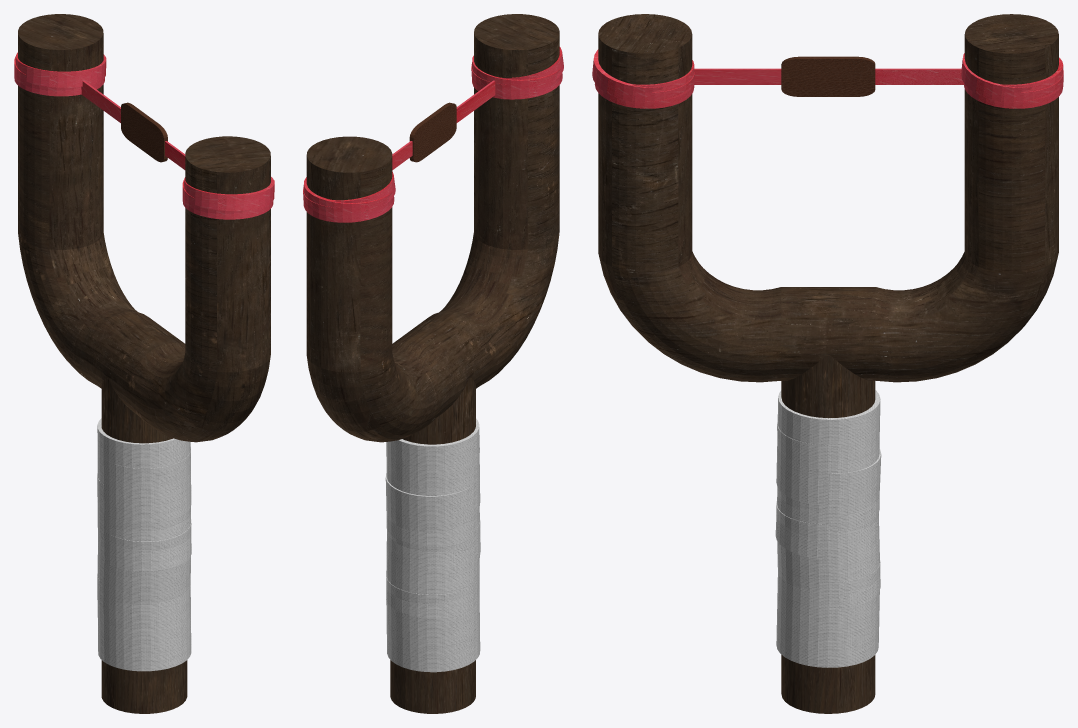
Rendered from slingshot.fbx.
3 views of the same model, side by side, from view 1: azimuth 30°, elevation 25°; view 2: azimuth 150°, elevation 25°; view 3: azimuth 270°, elevation 25° (orthographic). The views are drawn at different scales.
Visible parts, largest first — view 1: y-shape, cloth, cloth.004, handle, cloth.001, cloth.002, cloth.003, leather, rubberband.002, rubberband.003, rubberband left, rubberband (+1 smaller); view 2: y-shape, cloth, handle, cloth.001, cloth.004, cloth.002, cloth.003, leather, rubberband.004, rubberband.001, rubberband.005, rubberband right (+3 smaller); view 3: y-shape, handle, cloth, cloth.001, cloth.004, cloth.002, leather, cloth.003, rubberband right, rubberband left, rubberband.005, rubberband (+2 smaller).
Boxes of the visible parts, left/top/right/bottom form: y-shape: left=18, top=14, right=270, bottom=442; cloth: left=97, top=573, right=191, bottom=671; cloth.004: left=97, top=418, right=191, bottom=522; handle: left=101, top=377, right=187, bottom=713; cloth.001: left=97, top=519, right=191, bottom=610; cloth.002: left=97, top=473, right=191, bottom=571; cloth.003: left=97, top=447, right=190, bottom=536; leather: left=121, top=102, right=167, bottom=162; rubberband.002: left=184, top=177, right=274, bottom=210; rubberband.003: left=15, top=52, right=106, bottom=87; rubberband left: left=81, top=80, right=120, bottom=122; rubberband: left=182, top=198, right=273, bottom=219; y-shape: left=306, top=14, right=559, bottom=442; cloth: left=386, top=576, right=480, bottom=672; handle: left=390, top=377, right=475, bottom=713; cloth.001: left=386, top=520, right=480, bottom=617; cloth.004: left=386, top=418, right=480, bottom=512; cloth.002: left=385, top=473, right=480, bottom=561; cloth.003: left=386, top=448, right=479, bottom=546; leather: left=409, top=102, right=456, bottom=162; rubberband.004: left=303, top=177, right=393, bottom=218; rubberband.001: left=471, top=55, right=562, bottom=95; rubberband.005: left=303, top=187, right=394, bottom=222; rubberband right: left=456, top=80, right=495, bottom=122; y-shape: left=598, top=14, right=1058, bottom=382; handle: left=781, top=355, right=875, bottom=713; cloth: left=776, top=560, right=880, bottom=667; cloth.001: left=776, top=501, right=880, bottom=609; cloth.004: left=776, top=390, right=880, bottom=504; cloth.002: left=775, top=449, right=881, bottom=558; leather: left=781, top=56, right=875, bottom=96; cloth.003: left=777, top=422, right=879, bottom=530; rubberband right: left=694, top=68, right=781, bottom=84; rubberband left: left=875, top=68, right=963, bottom=84; rubberband.005: left=964, top=70, right=1063, bottom=108; rubberband: left=594, top=72, right=694, bottom=108.
Size of the model in its own units: 218 by 1550 by 1003.
